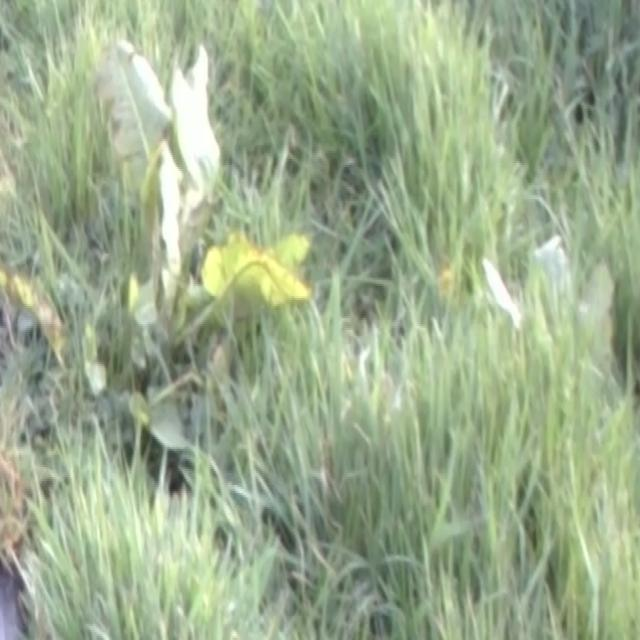organic waste: (45, 30, 304, 413), (486, 218, 628, 396)
